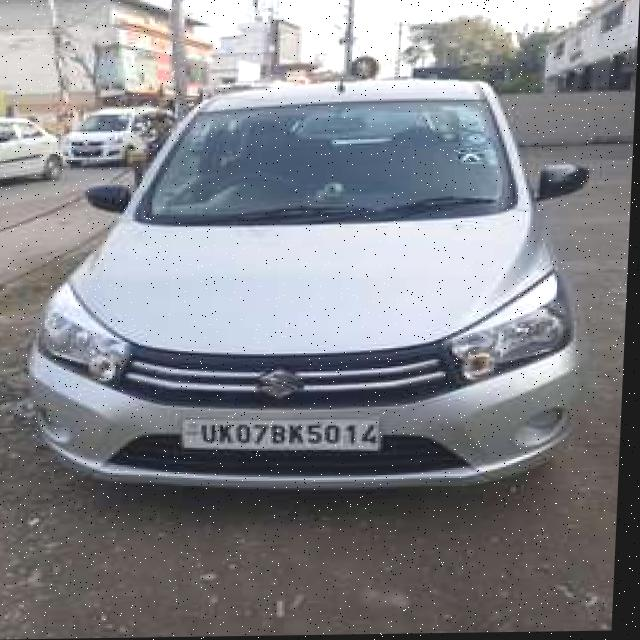plate: (180, 415, 387, 457)
